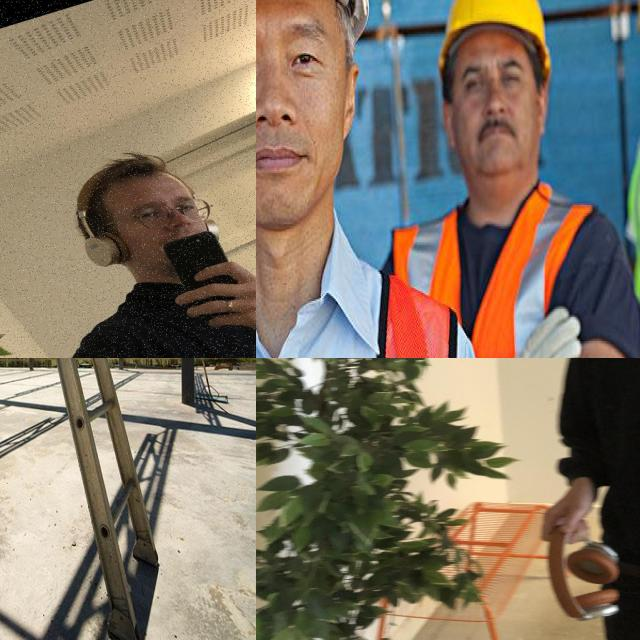Ear-protection: (42, 140, 242, 307)
No_Ear-Protection: (339, 58, 371, 164), (436, 81, 457, 168), (537, 78, 551, 148)
No_Glasses: (256, 30, 337, 80), (456, 52, 538, 96)
face_nomask: (256, 107, 318, 209), (458, 97, 533, 177)
head_helmet: (439, 0, 550, 78)
